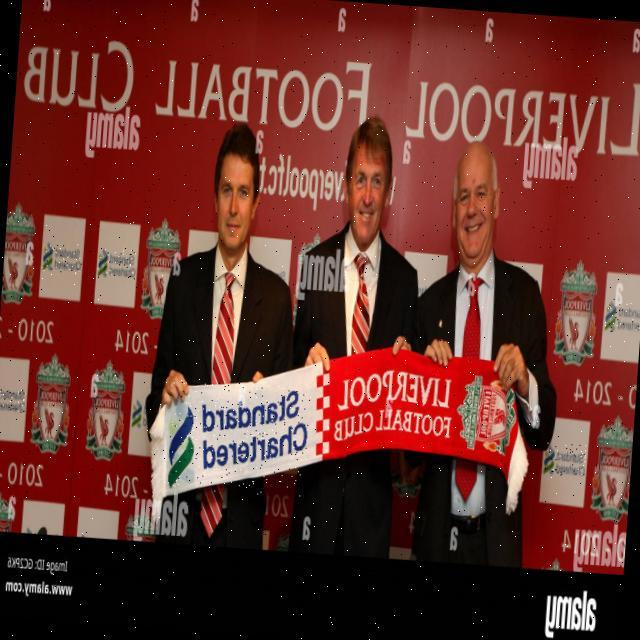Standard Chartered: (166, 378, 311, 497), (543, 443, 586, 479), (97, 246, 137, 281), (41, 242, 83, 275), (604, 298, 640, 333), (0, 386, 25, 413)
